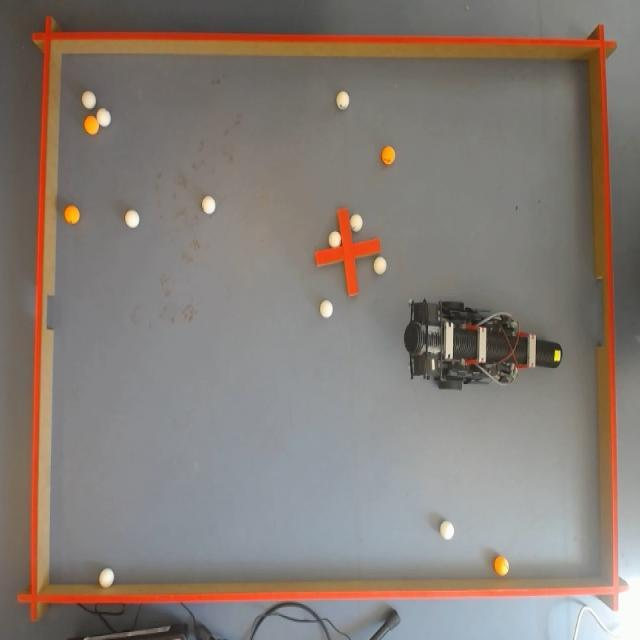orange: (494, 553, 512, 576), (64, 203, 80, 224), (84, 115, 100, 136), (381, 149, 394, 168)
robot: (413, 303, 569, 386)
white: (98, 568, 114, 588), (84, 90, 98, 110), (95, 108, 109, 128), (442, 518, 454, 540), (350, 214, 363, 234), (319, 298, 332, 318), (125, 211, 138, 230), (202, 196, 214, 216), (374, 256, 386, 276), (337, 89, 347, 111), (330, 230, 340, 248)
